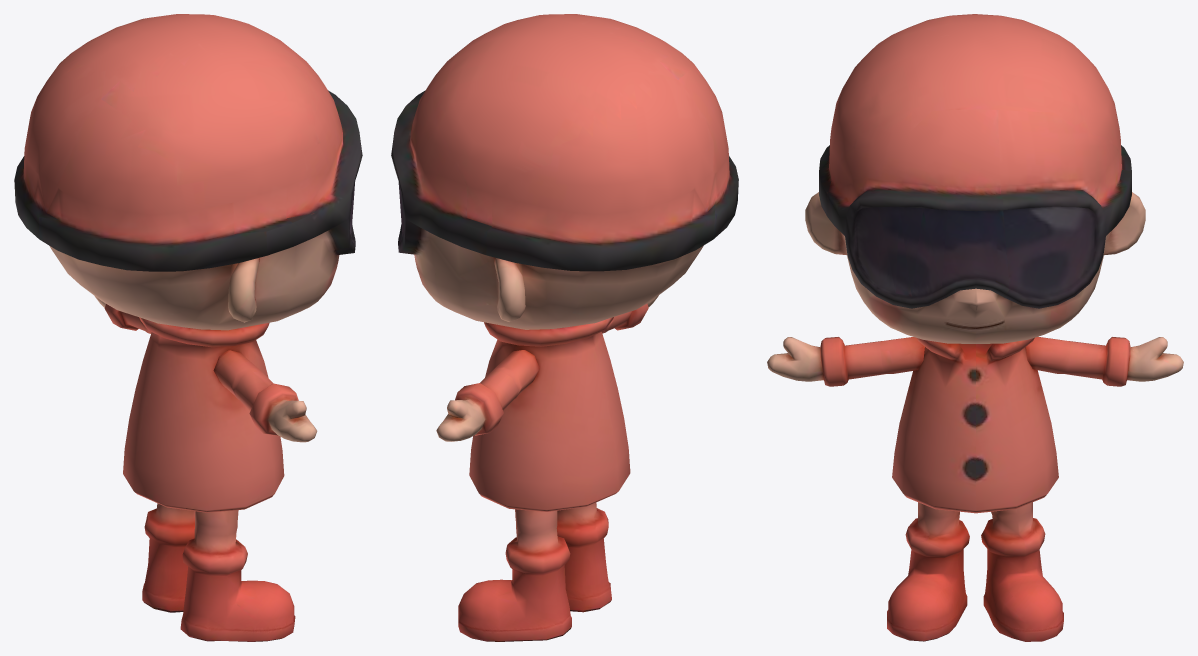
Rendered from char-8-agent.glb.
3 views of the same model, side by side, from view 1: azimuth 30°, elevation 25°; view 2: azimuth 150°, elevation 25°; view 3: azimuth 270°, elevation 25° (orthographic). The views are drawn at different scales.
Visible parts, largest first — view 1: tripo_node_89d24ed9-065d-4c2d-a5d7-07d9581fbaee; view 2: tripo_node_89d24ed9-065d-4c2d-a5d7-07d9581fbaee; view 3: tripo_node_89d24ed9-065d-4c2d-a5d7-07d9581fbaee.
Part boxes in pixels (<box>): tripo_node_89d24ed9-065d-4c2d-a5d7-07d9581fbaee: <box>14,14,362,641</box>; tripo_node_89d24ed9-065d-4c2d-a5d7-07d9581fbaee: <box>391,14,738,641</box>; tripo_node_89d24ed9-065d-4c2d-a5d7-07d9581fbaee: <box>767,14,1183,641</box>.
Size of the model in its own units: 0.5293 by 0.998 by 0.6582.
1 material, 1 textured.
